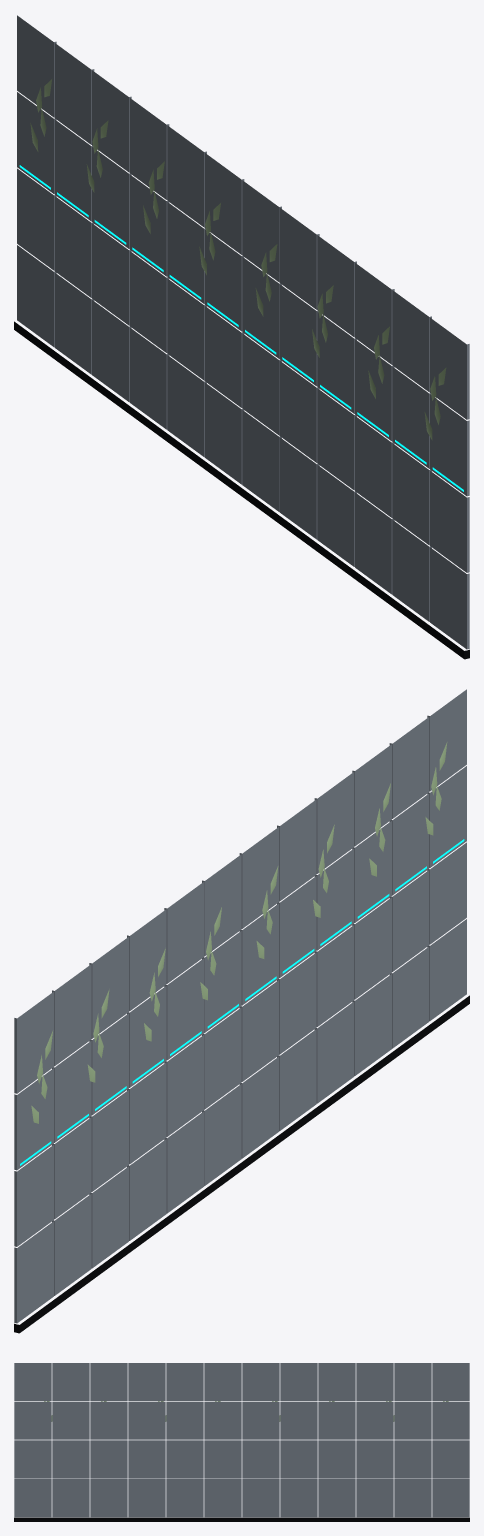
Rendered from tt_bowl_core_acoustic.glb.
3 views of the same model, one above another, from view 1: azimuth 30°, elevation 25°; view 2: azimuth 150°, elevation 25°; view 3: azimuth 270°, elevation 25° (orthographic). The views are drawn at different scales.
Parts seen in each view (by area): view 1: Acoustic_Panels, Panel_Base, Panel_LeafRelief, Panel_Reveal; view 2: Acoustic_Panels, Panel_Base, Panel_LeafRelief, Panel_Reveal; view 3: Acoustic_Panels, Panel_Base.
Boxes of the visible parts, x1,y1,x2,y2 form: Acoustic_Panels: [17, 15, 469, 649]; Panel_Base: [14, 321, 469, 659]; Panel_LeafRelief: [30, 79, 446, 440]; Panel_Reveal: [19, 165, 463, 491]; Acoustic_Panels: [14, 689, 466, 1323]; Panel_Base: [14, 995, 469, 1333]; Panel_LeafRelief: [31, 742, 447, 1123]; Panel_Reveal: [20, 839, 464, 1165]; Acoustic_Panels: [14, 1363, 469, 1517]; Panel_Base: [14, 1517, 469, 1521].
Size of what is drawn, in the model's own units: 0.102 by 5.54 by 14.4.
4 materials, 1 textured.
